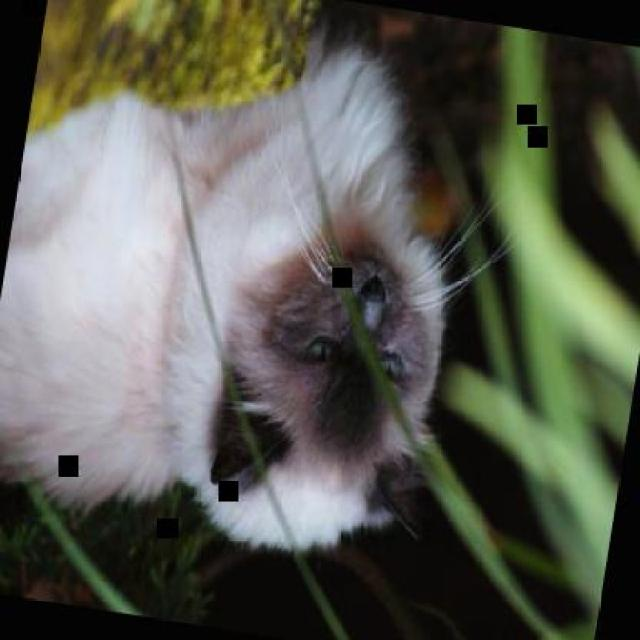cat: (0, 0, 498, 580)
